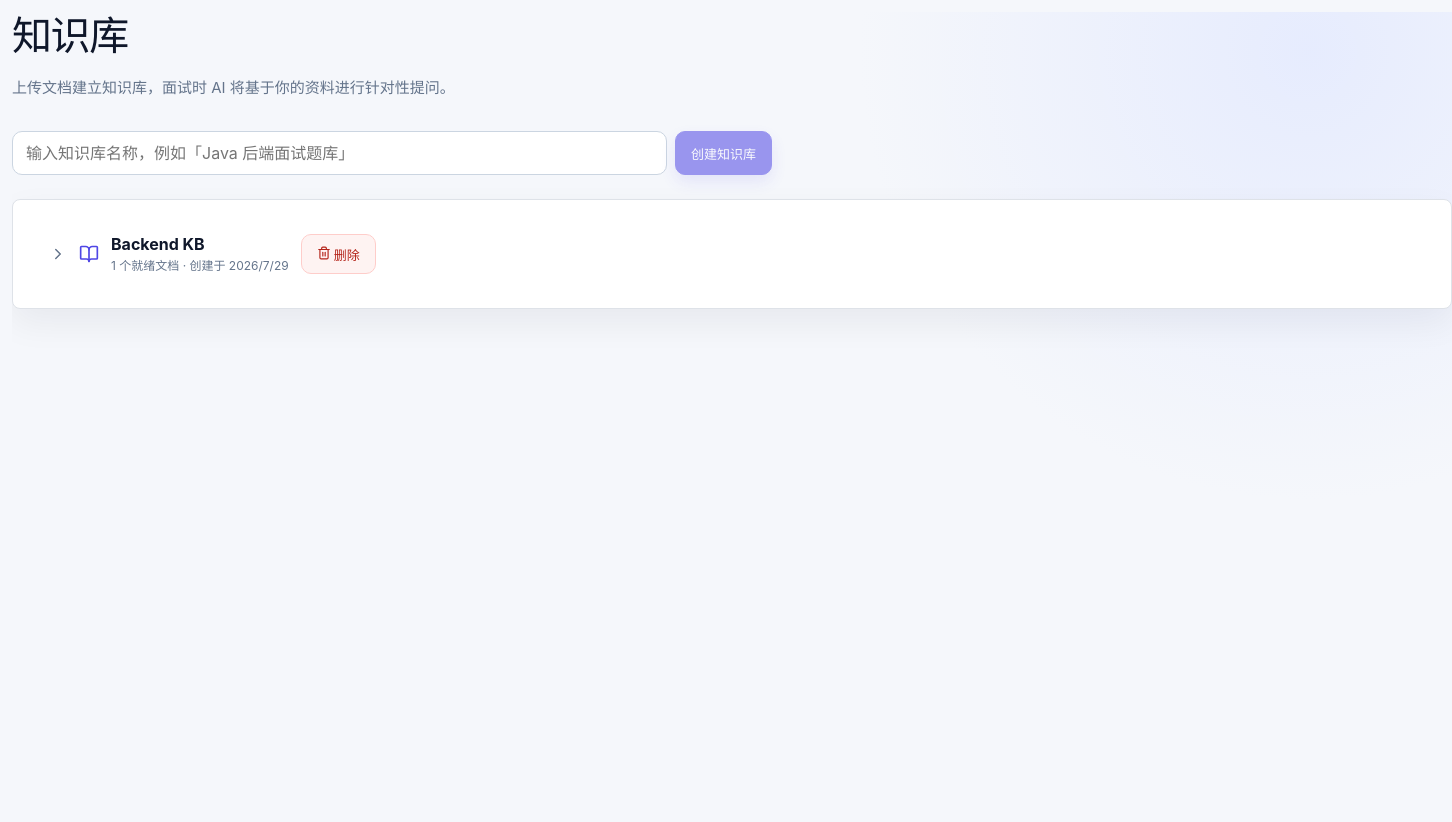
Test case: 知识库页面 › 展示全部可见文档状态，轮询索引中文档，并支持删除
Click the button "Backend KB 1 个就绪文档 · 创建于 2026/7/29 删除": x=158, y=244 [49,234,376,274]
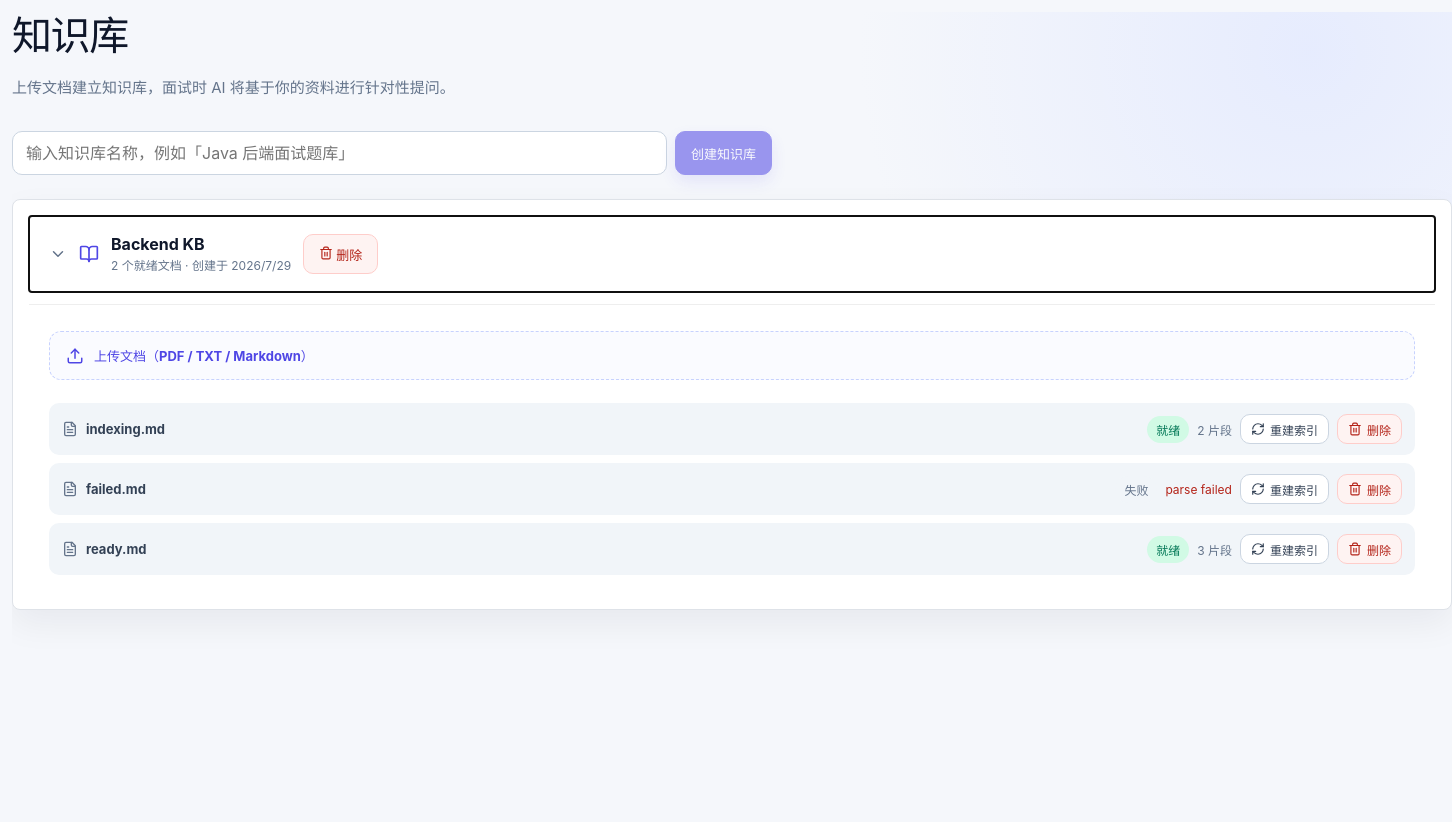
Now the text "索引中" in the row of "indexing.md" is shown, box [1147,416,1189,442]
Now the text "失败" is shown, box [1115,476,1157,502]
Now the text "parse failed" is shown, box [1165,482,1232,496]
Click the button "删除" in the row of "ready.md": x=1370, y=549 [1337,534,1402,564]
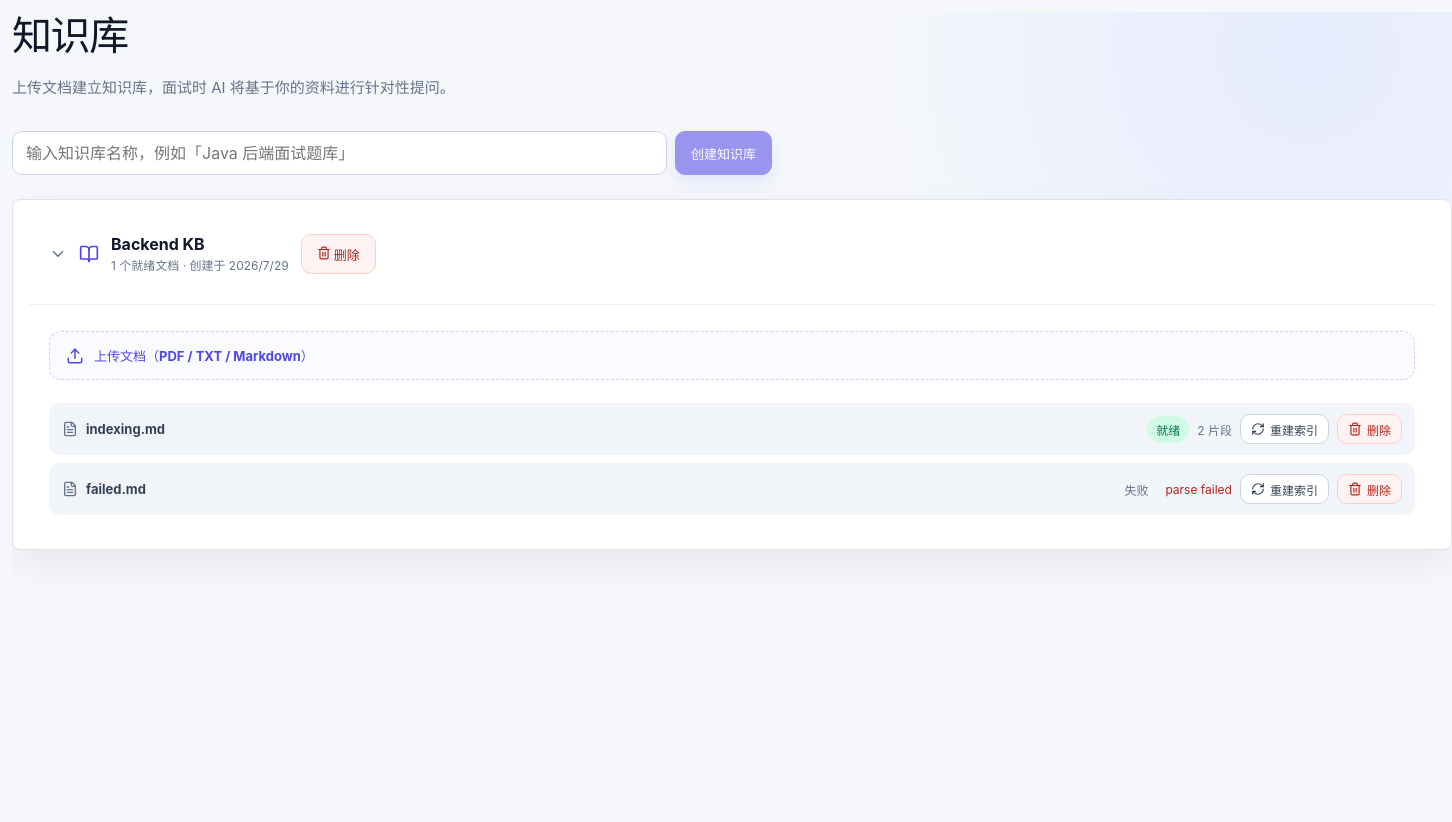
Now the text "ready.md" is gone
